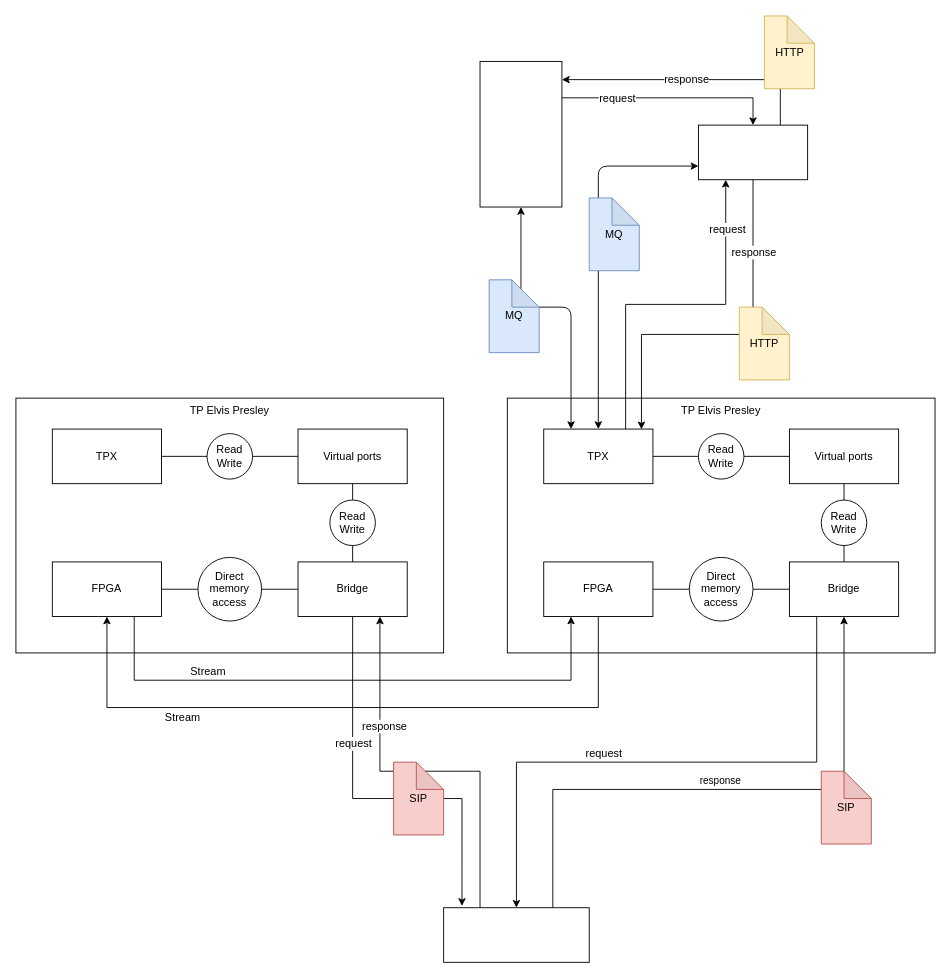
Some shapes in this 951 by 978 pixel diagram are drawn without their labels. The centre of each missing label's shape, as x and y in pixels:
App: the point at 520,134
Kamailio (SIP server): the point at 516,934
Platform: the point at 753,152
